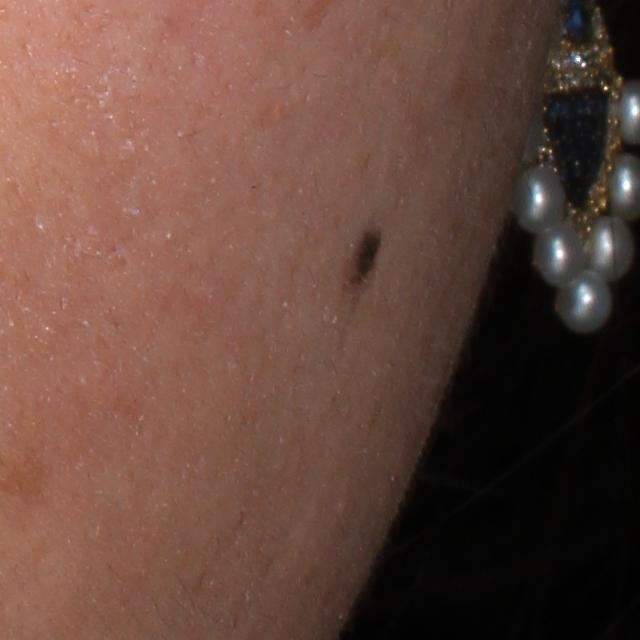nevus: (351, 223, 383, 286)
